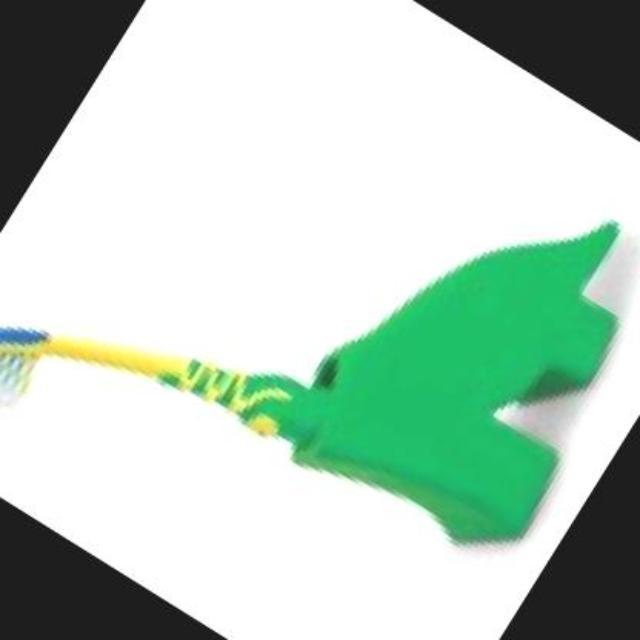toothbrush: (0, 200, 384, 616)
